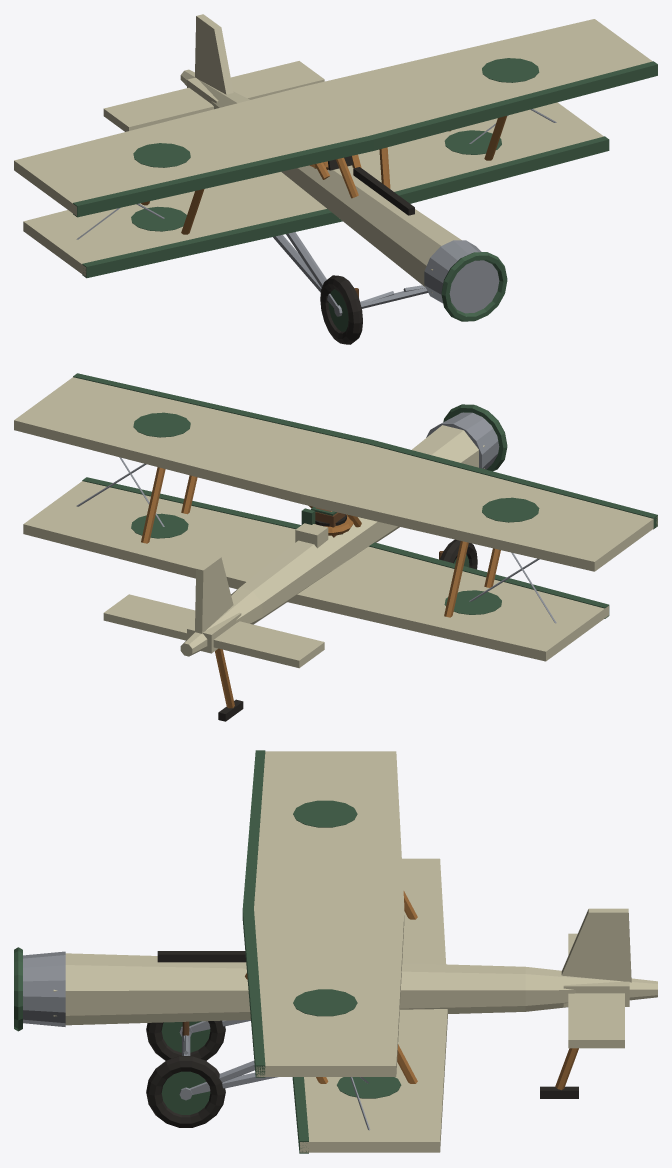
The model's file is body.glb.
3 views of the same model, one above another, from view 1: azimuth 30°, elevation 25°; view 2: azimuth 150°, elevation 25°; view 3: azimuth 270°, elevation 25° (orthographic). The views are drawn at different scales.
Parts seen in each view (by area): view 1: wing_1, wing_0, wing_1_leading_edge, wing_0_leading_edge, fuselage, horizontal_stabilizer, engine_cowl, vertical_fin, tire, cowl_ring, roundel_1_r, roundel_1_l (+7 smaller); view 2: wing_1, wing_0, fuselage, horizontal_stabilizer, wing_1_leading_edge, wing_0_leading_edge, vertical_fin, engine_cowl, tail_cone, roundel_1_r, roundel_1_l, roundel_0_l (+8 smaller); view 3: wing_1, fuselage, wing_0, tire (×2), vertical_fin, wing_1_leading_edge, horizontal_stabilizer, engine_cowl, tail_cone, rim (×2), roundel_1_l, roundel_1_r (+5 smaller).
Part boxes in pixels (<box>): wing_1: <box>14,19,652,215</box>; wing_0: <box>23,102,603,276</box>; wing_1_leading_edge: <box>73,61,657,217</box>; wing_0_leading_edge: <box>82,136,609,278</box>; fuselage: <box>281,165,461,292</box>; horizontal_stabilizer: <box>103,61,324,131</box>; engine_cowl: <box>424,240,499,313</box>; vertical_fin: <box>195,14,233,94</box>; tire: <box>320,275,362,344</box>; cowl_ring: <box>441,252,507,321</box>; roundel_1_r: <box>482,58,539,82</box>; roundel_1_l: <box>133,143,190,167</box>; wing_1: <box>14,377,657,571</box>; wing_0: <box>23,481,608,661</box>; fuselage: <box>239,425,484,623</box>; horizontal_stabilizer: <box>103,594,324,668</box>; wing_1_leading_edge: <box>73,373,657,529</box>; wing_0_leading_edge: <box>82,477,609,618</box>; vertical_fin: <box>195,555,233,633</box>; engine_cowl: <box>426,412,499,469</box>; tail_cone: <box>180,588,262,656</box>; roundel_1_r: <box>133,412,190,437</box>; roundel_1_l: <box>482,497,539,522</box>; roundel_0_l: <box>444,590,501,614</box>; wing_1: <box>254,751,404,1076</box>; fuselage: <box>53,953,525,1025</box>; wing_0: <box>300,858,447,1152</box>; tire (×2): <box>146,1020,225,1127</box>; vertical_fin: <box>561,908,631,982</box>; wing_1_leading_edge: <box>242,750,265,1077</box>; horizontal_stabilizer: <box>568,933,624,1048</box>; engine_cowl: <box>23,951,65,1026</box>; tail_cone: <box>525,967,657,1011</box>; rim (×2): <box>161,1021,210,1114</box>; roundel_1_l: <box>293,800,357,827</box>; roundel_1_r: <box>293,989,357,1016</box>.
Bounding box in the file's own units: 8.03 × 2.25 × 6.94.
